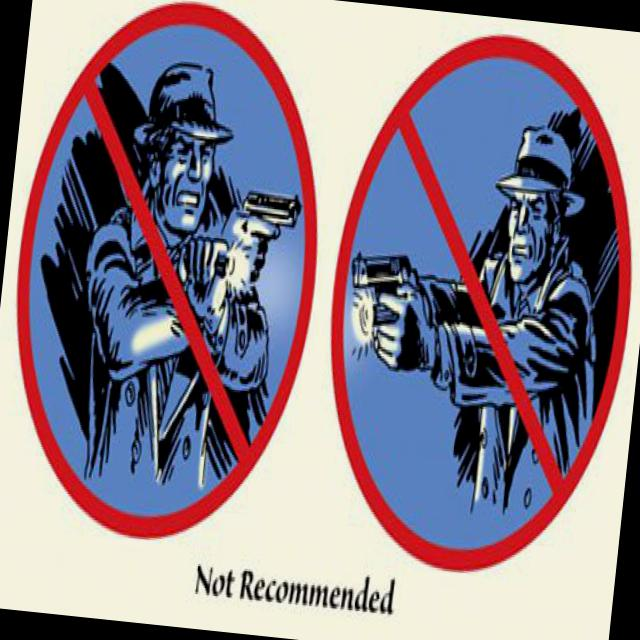handgun: (333, 244, 440, 363), (218, 174, 302, 325)
